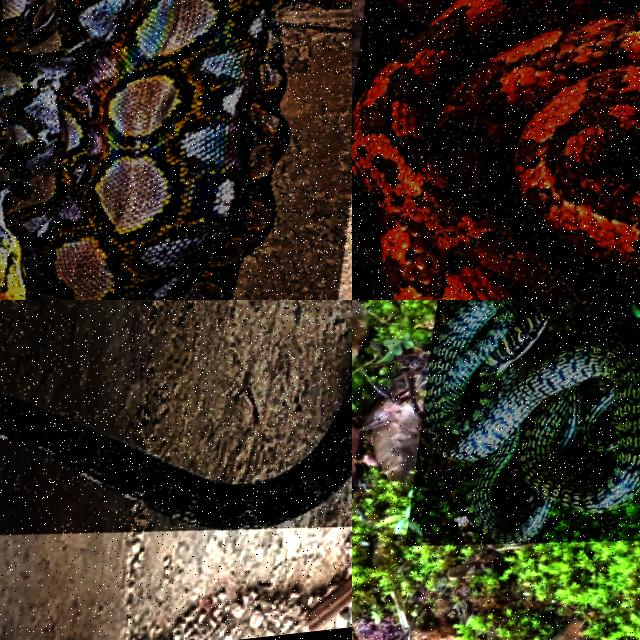Chrysopelea ornata: (425, 300, 639, 544)
Malayopython reticulatus: (0, 0, 291, 299)
Ophiophagus hannah: (0, 387, 351, 530)
Ovophis monticola: (352, 0, 639, 299)
